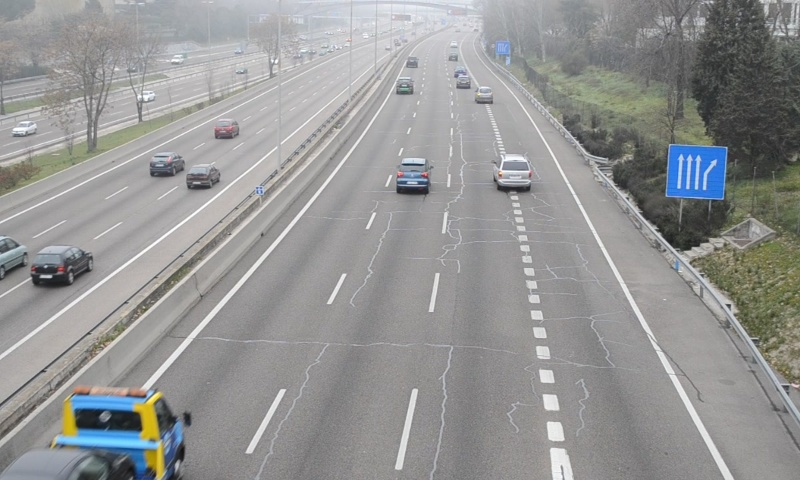car: (493, 154, 531, 190), (395, 158, 430, 190), (475, 85, 494, 104), (395, 76, 414, 95)
small-truck: (0, 386, 184, 480)
